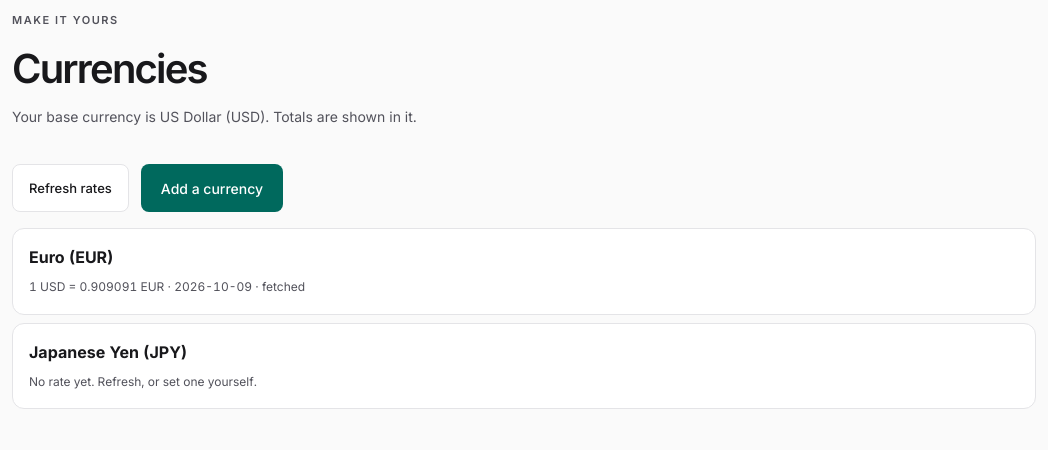
Scenario: CurrenciesPage › refreshes and reports updated, kept and failed currencies
Click the button "Refresh rates" at [70, 188], box left=12, top=164, right=129, bottom=212
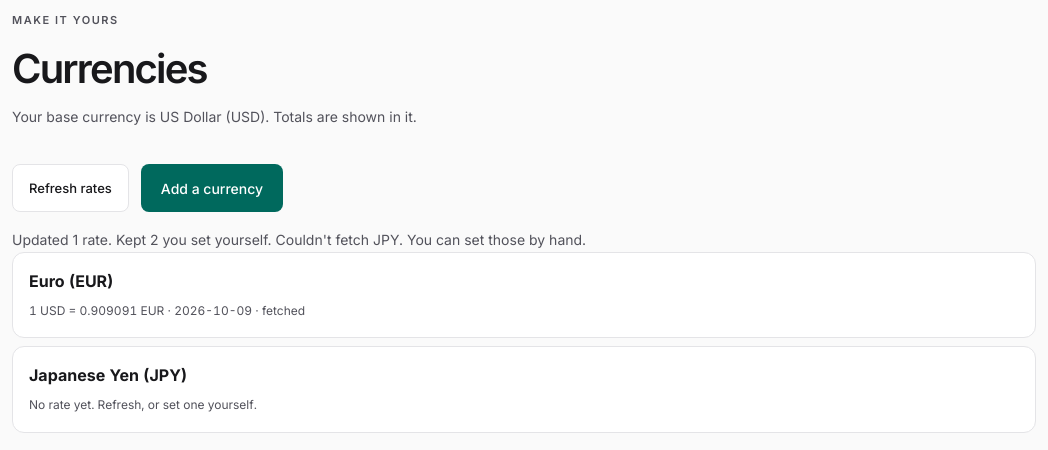
Check: the text "Couldn't fetch JPY" is shown, box left=12, top=231, right=586, bottom=248
